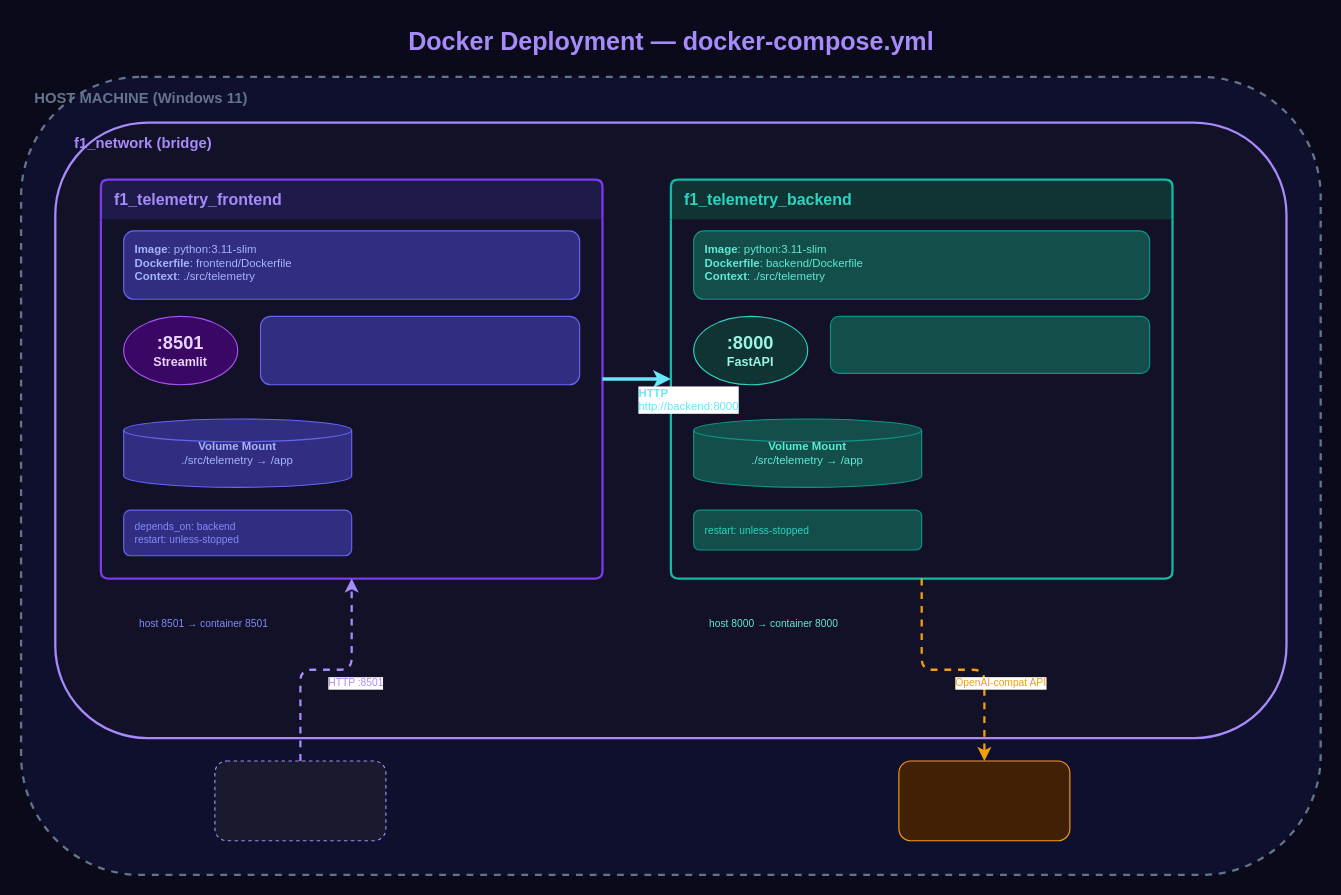
This 1341x895 diagram has some shape labels left out. Each missing label, with the box of its shape:
Browser localhost:8501: (214, 760, 386, 841)
Environment PYTHONUNBUFFERED=1: (829, 315, 1150, 373)
Environment PYTHONUNBUFFERED=1 BACKEND_URL=http://backend:8000: (259, 315, 580, 385)
LM Studio :1234 (host machine): (898, 760, 1070, 841)
